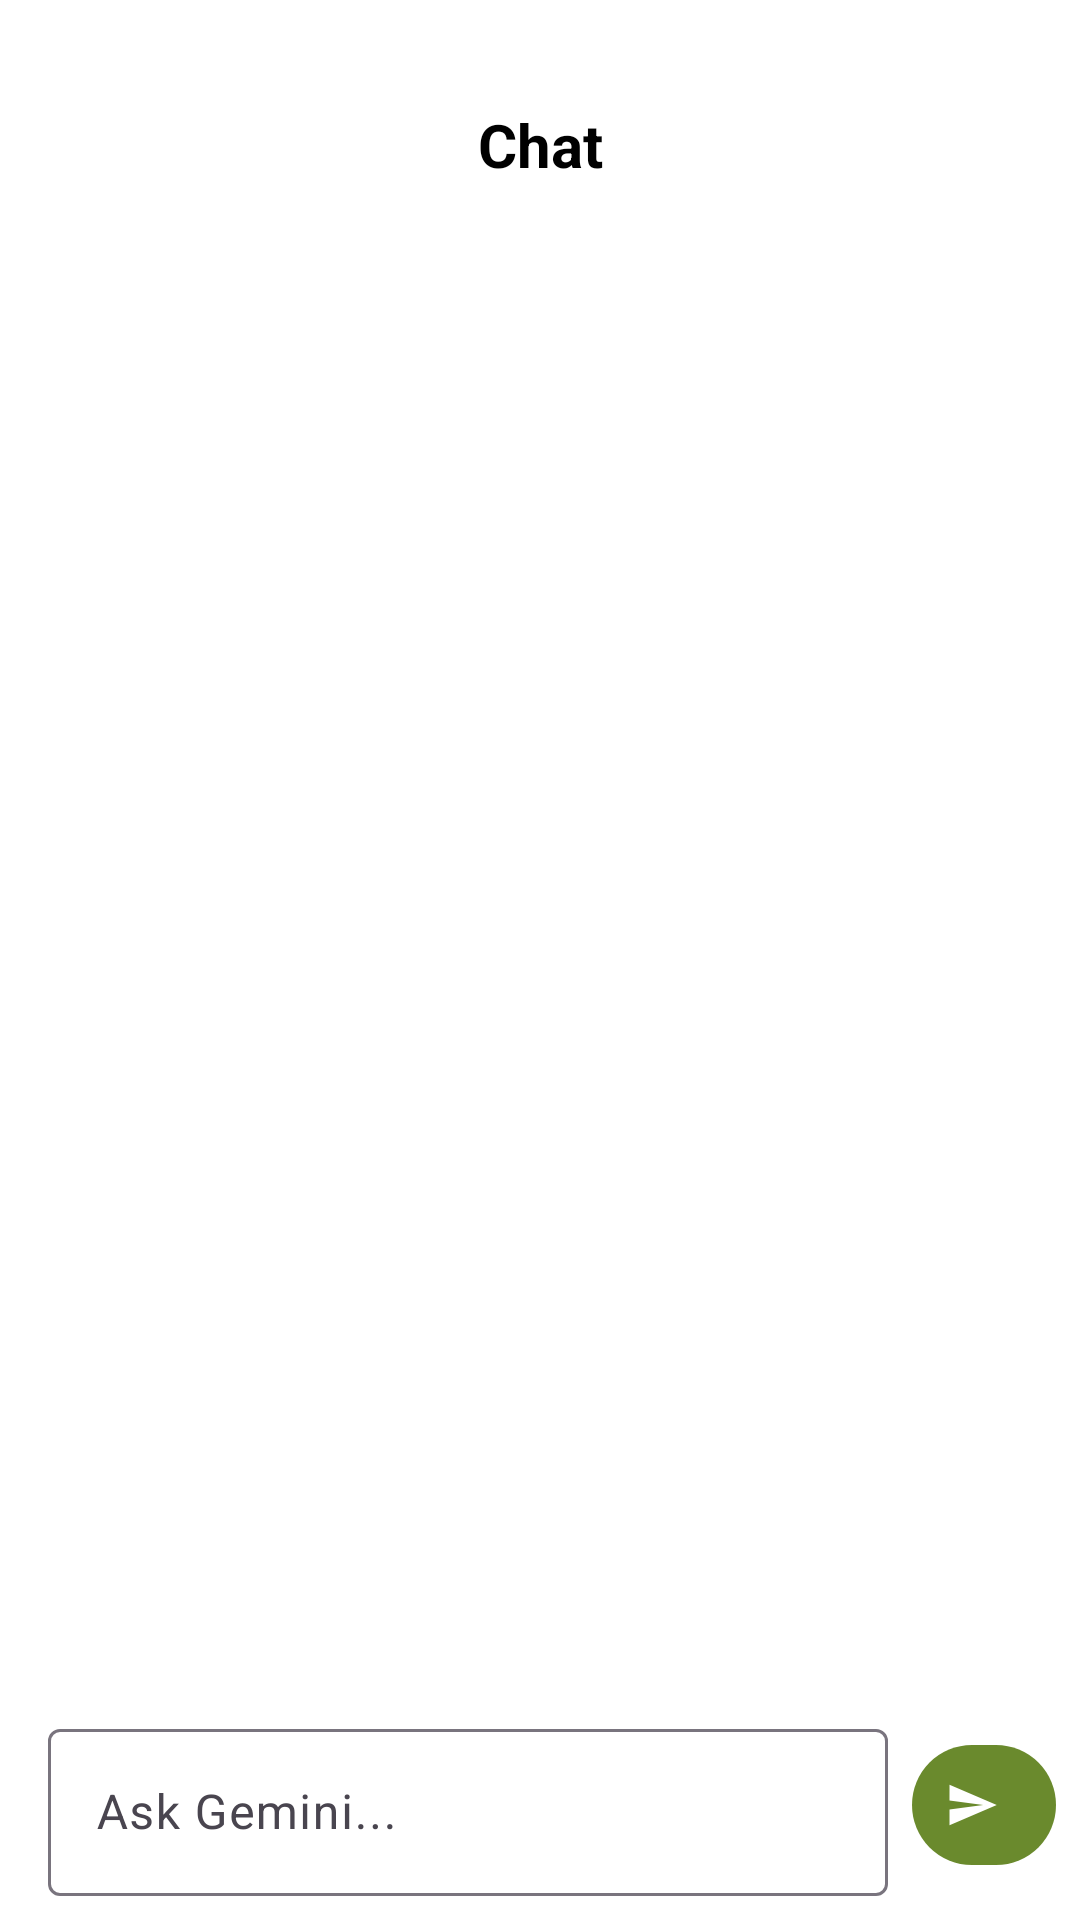

Locate icon controls on the screen. Image size 1080 × 1920, boxes as (x1, y1, x2, y2).
Send: (912, 1745, 1056, 1865)
